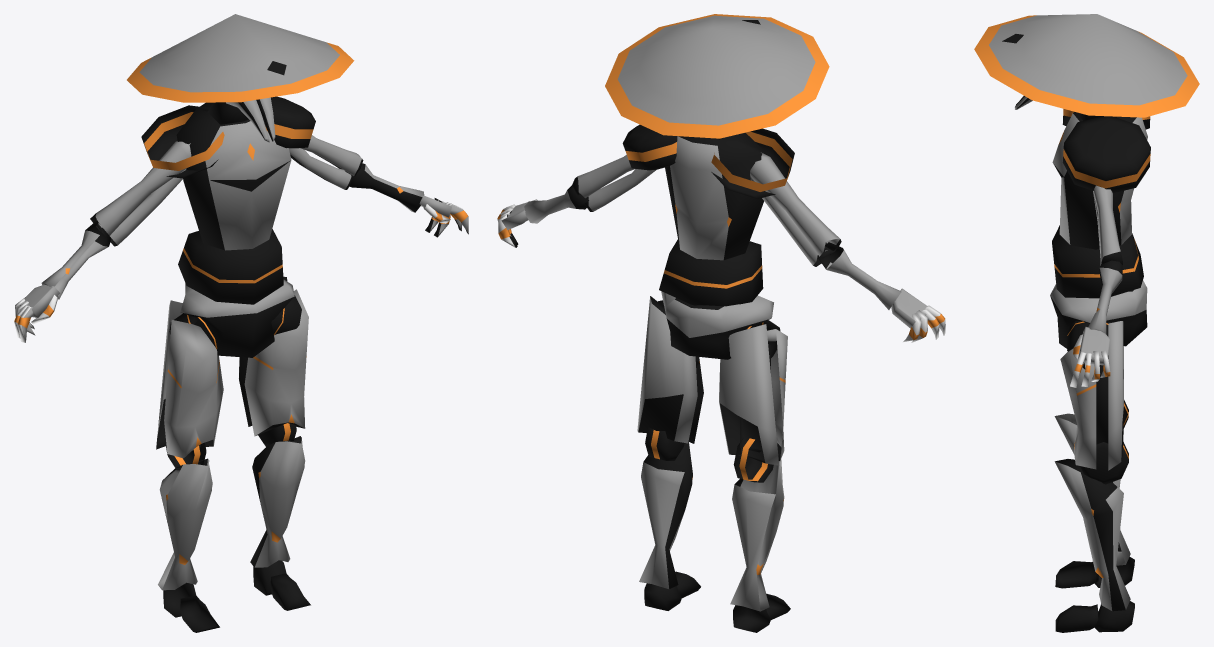
The model's file is SAMIDALE_lowpoly.fbx.
The picture shows the model from 3 angles, left to right: view 1: azimuth 30°, elevation 25°; view 2: azimuth 150°, elevation 25°; view 3: azimuth 270°, elevation 25°; orthographic projection.
Parts seen in each view (by area): view 1: Circle, Cylinder.001, Cylinder.002, Cylinder.010, Cylinder.007, Cylinder.006, Cylinder.011, Cylinder.003, Cube.004, Cylinder.017, Cube.034, Cylinder.016 (+10 smaller); view 2: Circle, Cylinder.001, Cylinder.002, Cylinder.010, Cylinder.007, Cylinder.003, Cylinder.011, Cylinder.006, Cube.004, Cube.034, Cylinder.017, Cylinder.016 (+7 smaller); view 3: Circle, Cylinder.010, Cylinder.016, Cylinder.011, Cylinder.001, Cylinder.007, Cylinder.006, Cube.034, Cube.035, Cylinder.012, Cylinder.014, Cylinder.008 (+5 smaller).
Part boxes in pixels (x1,y1,x2,y2): Circle: (127,14,354,102); Cylinder.001: (176,102,291,250); Cylinder.002: (156,300,223,458); Cylinder.010: (239,276,308,436); Cylinder.007: (178,229,283,304); Cylinder.006: (180,279,294,357); Cylinder.011: (250,436,305,567); Cylinder.003: (158,458,212,590); Cube.004: (90,141,191,246); Cylinder.017: (141,105,224,178); Cube.034: (289,135,363,189); Cylinder.016: (265,96,315,148); Circle: (605,14,829,138); Cylinder.001: (665,132,766,260); Cylinder.002: (719,324,787,465); Cylinder.010: (637,296,703,443); Cylinder.007: (659,239,763,306); Cylinder.003: (730,459,784,611); Cylinder.011: (639,442,692,589); Cylinder.006: (661,291,773,359); Cube.004: (750,152,841,266); Cube.034: (572,155,655,211); Cylinder.017: (711,128,794,198); Cylinder.016: (622,124,677,170); Circle: (974,14,1199,117); Cylinder.010: (1060,321,1123,470); Cylinder.016: (1062,116,1150,192); Cylinder.011: (1054,459,1130,611); Cylinder.001: (1052,112,1147,249); Cylinder.007: (1052,225,1143,298); Cylinder.006: (1050,280,1147,348); Cube.034: (1093,185,1122,265); Cube.035: (1088,260,1122,333); Cylinder.012: (1080,442,1128,484); Cylinder.014: (1055,604,1098,632); Cylinder.008: (1055,561,1098,588).
Bounding box in the file's own units: 119 × 149 × 51.58.
